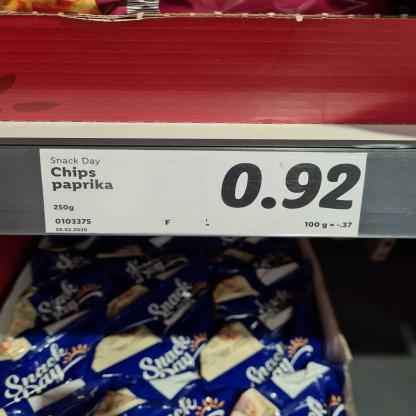prtg: (41, 150, 369, 237)
